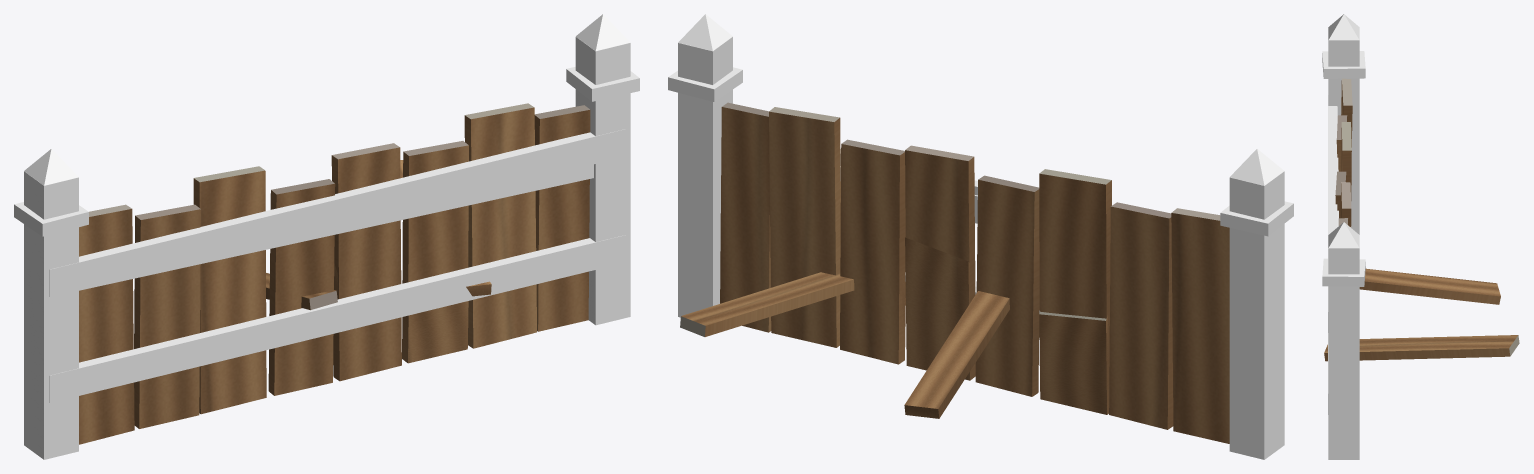
File: Fence_Western_Wooden.fbx
3 views of the same model, side by side, from view 1: azimuth 30°, elevation 25°; view 2: azimuth 150°, elevation 25°; view 3: azimuth 270°, elevation 25° (orthographic). The views are drawn at different scales.
Parts seen in each view (by area): view 1: EXPORT_Fence_Rail_Top, EXPORT_Fence_Rail_Bottom, EXPORT_Fence_Post_L, EXPORT_Fence_Post_R, EXPORT_Fence_Plank_03, EXPORT_Fence_Plank_07, EXPORT_Fence_Plank_05, EXPORT_Fence_Plank_02, EXPORT_Fence_Plank_01, EXPORT_Fence_Plank_04, EXPORT_Fence_Plank_08, EXPORT_Fence_Plank_06 (+3 smaller); view 2: EXPORT_Fence_Post_L, EXPORT_Fence_Plank_07, EXPORT_Fence_Plank_06, EXPORT_Fence_Plank_02, EXPORT_Fence_Post_R, EXPORT_Fence_Plank_01, EXPORT_Fence_Plank_04, EXPORT_Fence_Plank_03, EXPORT_Fence_Plank_08, EXPORT_Fence_Plank_05, EXPORT_Fence_Plank_03_Broken, EXPORT_Fence_Plank_05_Broken (+2 smaller); view 3: EXPORT_Fence_Post_R, EXPORT_Fence_Post_L, EXPORT_Fence_Debris_02, EXPORT_Fence_Debris_01, EXPORT_Fence_Rail_Top, EXPORT_Fence_Plank_03, EXPORT_Fence_Plank_01, EXPORT_Fence_Plank_05, EXPORT_Fence_Plank_02, EXPORT_Fence_Plank_04.
Part boxes in pixels (<box>): EXPORT_Fence_Rail_Top: <box>49,129,625,296</box>; EXPORT_Fence_Rail_Bottom: <box>49,235,625,402</box>; EXPORT_Fence_Post_L: <box>14,149,88,459</box>; EXPORT_Fence_Post_R: <box>566,14,639,325</box>; EXPORT_Fence_Plank_03: <box>193,166,266,414</box>; EXPORT_Fence_Plank_07: <box>464,103,536,348</box>; EXPORT_Fence_Plank_05: <box>331,143,401,381</box>; EXPORT_Fence_Plank_02: <box>134,204,200,428</box>; EXPORT_Fence_Plank_01: <box>79,204,134,444</box>; EXPORT_Fence_Plank_04: <box>268,179,335,395</box>; EXPORT_Fence_Plank_08: <box>534,105,590,331</box>; EXPORT_Fence_Plank_06: <box>402,141,468,362</box>; EXPORT_Fence_Post_L: <box>1220,149,1293,459</box>; EXPORT_Fence_Plank_07: <box>769,107,840,347</box>; EXPORT_Fence_Plank_06: <box>840,139,905,364</box>; EXPORT_Fence_Plank_02: <box>1109,202,1173,429</box>; EXPORT_Fence_Post_R: <box>668,14,742,317</box>; EXPORT_Fence_Plank_01: <box>1171,208,1229,443</box>; EXPORT_Fence_Plank_04: <box>975,175,1039,396</box>; EXPORT_Fence_Plank_03: <box>1039,169,1111,414</box>; EXPORT_Fence_Plank_08: <box>720,102,771,332</box>; EXPORT_Fence_Plank_05: <box>905,145,975,379</box>; EXPORT_Fence_Plank_03_Broken: <box>1039,311,1109,414</box>; EXPORT_Fence_Plank_05_Broken: <box>905,237,975,380</box>; EXPORT_Fence_Post_R: <box>1322,222,1365,459</box>; EXPORT_Fence_Post_L: <box>1322,14,1365,234</box>; EXPORT_Fence_Debris_02: <box>1324,335,1519,361</box>; EXPORT_Fence_Debris_01: <box>1359,268,1500,304</box>; EXPORT_Fence_Rail_Top: <box>1328,95,1337,332</box>; EXPORT_Fence_Plank_03: <box>1341,122,1351,200</box>; EXPORT_Fence_Plank_01: <box>1341,78,1352,147</box>; EXPORT_Fence_Plank_05: <box>1340,182,1351,226</box>; EXPORT_Fence_Plank_02: <box>1336,115,1347,171</box>; EXPORT_Fence_Plank_04: <box>1335,171,1346,218</box>.
Size of the model in its own units: 3.44 by 1.64 by 1.27.
